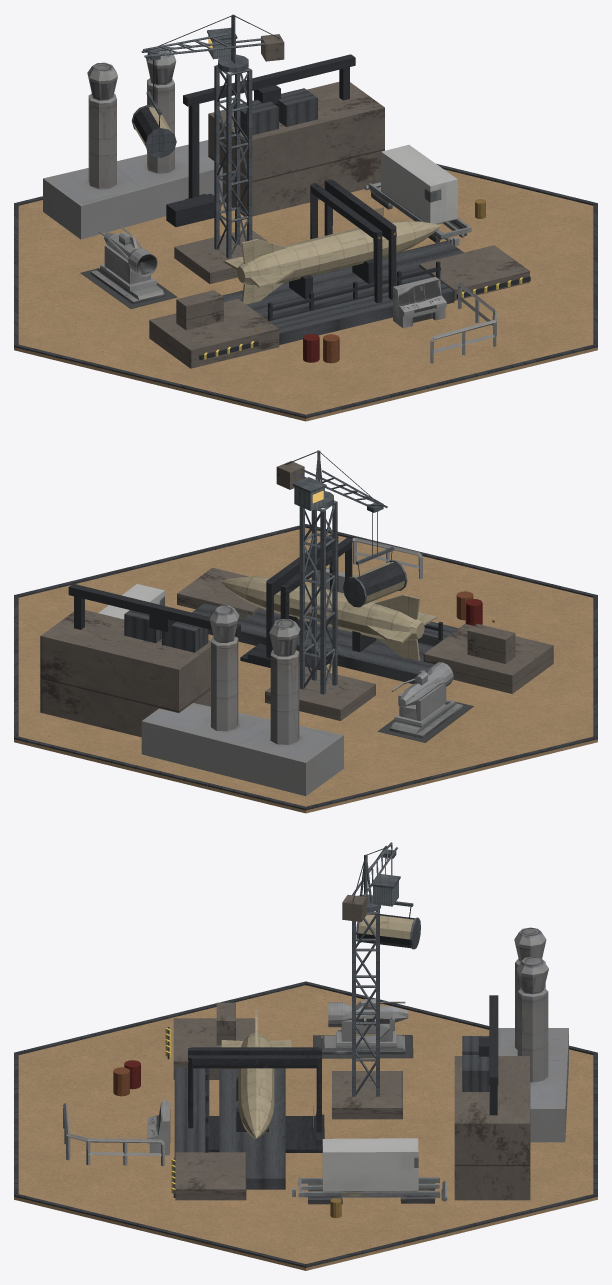
File: MissileRecipeLab.glb
3 views of the same model, one above another, from view 1: azimuth 30°, elevation 25°; view 2: azimuth 150°, elevation 25°; view 3: azimuth 270°, elevation 25° (orthographic).
Visible parts, largest first — view 1: MissileRecipeLab_Ground, MissileRecipeLab_DecorLargeMachinery_01, MissileRecipeLab_UpperLabBlock, MissileRecipeLab_MastSteel_01, MissileRecipeLab_DecorPipeUnit_01, MissileRecipeLab_ServiceStepLeft, MissileRecipeLab_GroundTrim, MissileRecipeLab_Crane_01, MissileRecipeLab_MissileDark, MissileRecipeLab_EngineTestPlatform, MissileRecipeLab_DecorServiceCrate_01, MissileRecipeLab_DecorLabMachine_01 (+13 smaller); view 2: MissileRecipeLab_Ground, MissileRecipeLab_DecorLargeMachinery_01, MissileRecipeLab_UpperLabBlock, MissileRecipeLab_GroundTrim, MissileRecipeLab_MastSteel_01, MissileRecipeLab_Crane_01, MissileRecipeLab_ServiceStepLeft, MissileRecipeLab_EngineTestPlatform, MissileRecipeLab_DecorServiceCrate_01, MissileRecipeLab_MissileLight, MissileRecipeLab_DecorLabMachine_01, MissileRecipeLab_MissileDark (+8 smaller); view 3: MissileRecipeLab_Ground, MissileRecipeLab_UpperLabBlock, MissileRecipeLab_DecorLargeMachinery_01, MissileRecipeLab_DecorPipeUnit_01, MissileRecipeLab_GroundTrim, MissileRecipeLab_DecorLabMachine_01, MissileRecipeLab_EngineTestPlatform, MissileRecipeLab_Crane_01, MissileRecipeLab_DecorServiceCrate_01, MissileRecipeLab_ServiceStepRight, MissileRecipeLab_ServiceStepRight.001, MissileRecipeLab_MastSteel_01 (+9 smaller).
Boxes of the visible parts, box(x1,y1,x2,y2) form: MissileRecipeLab_Ground: box(14, 169, 597, 421); MissileRecipeLab_DecorLargeMachinery_01: box(43, 48, 222, 239); MissileRecipeLab_UpperLabBlock: box(208, 82, 384, 216); MissileRecipeLab_MastSteel_01: box(214, 64, 252, 258); MissileRecipeLab_DecorPipeUnit_01: box(364, 144, 471, 246); MissileRecipeLab_ServiceStepLeft: box(149, 298, 279, 368); MissileRecipeLab_GroundTrim: box(14, 163, 597, 418); MissileRecipeLab_Crane_01: box(131, 14, 284, 157); MissileRecipeLab_MissileDark: box(224, 227, 373, 304); MissileRecipeLab_EngineTestPlatform: box(222, 240, 463, 319); MissileRecipeLab_DecorServiceCrate_01: box(80, 226, 177, 308); MissileRecipeLab_DecorLabMachine_01: box(310, 179, 396, 303); MissileRecipeLab_Ground: box(14, 527, 597, 813); MissileRecipeLab_DecorLargeMachinery_01: box(141, 605, 343, 796); MissileRecipeLab_UpperLabBlock: box(40, 610, 210, 737); MissileRecipeLab_GroundTrim: box(14, 524, 597, 810); MissileRecipeLab_MastSteel_01: box(299, 500, 337, 694); MissileRecipeLab_Crane_01: box(276, 450, 407, 607); MissileRecipeLab_ServiceStepLeft: box(423, 624, 553, 693); MissileRecipeLab_EngineTestPlatform: box(192, 603, 434, 683); MissileRecipeLab_DecorServiceCrate_01: box(377, 662, 473, 742); MissileRecipeLab_MissileLight: box(220, 576, 413, 637); MissileRecipeLab_DecorLabMachine_01: box(240, 534, 352, 669); MissileRecipeLab_MissileDark: box(289, 586, 436, 660); MissileRecipeLab_Ground: box(14, 985, 597, 1270); MissileRecipeLab_UpperLabBlock: box(454, 1056, 530, 1200); MissileRecipeLab_DecorLargeMachinery_01: box(498, 927, 568, 1142); MissileRecipeLab_DecorPipeUnit_01: box(292, 1138, 447, 1204); MissileRecipeLab_GroundTrim: box(14, 981, 597, 1267); MissileRecipeLab_DecorLabMachine_01: box(188, 1047, 324, 1152); MissileRecipeLab_EngineTestPlatform: box(219, 1068, 285, 1189); MissileRecipeLab_Crane_01: box(342, 842, 420, 949); MissileRecipeLab_DecorServiceCrate_01: box(313, 999, 413, 1058); MissileRecipeLab_ServiceStepRight: box(175, 1152, 246, 1200); MissileRecipeLab_ServiceStepRight.001: box(332, 1071, 402, 1119); MissileRecipeLab_MastSteel_01: box(352, 909, 379, 1096).
Bounding box in the file's own units: 12 × 5.05 × 10.39.
Materials: 22 (20 with a texture image).
